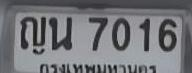0: (111, 17, 131, 51)
1: (138, 17, 151, 53)
6: (158, 18, 178, 53)
7: (88, 16, 108, 52)
A13: (20, 16, 46, 55)
A25: (48, 16, 73, 52)
